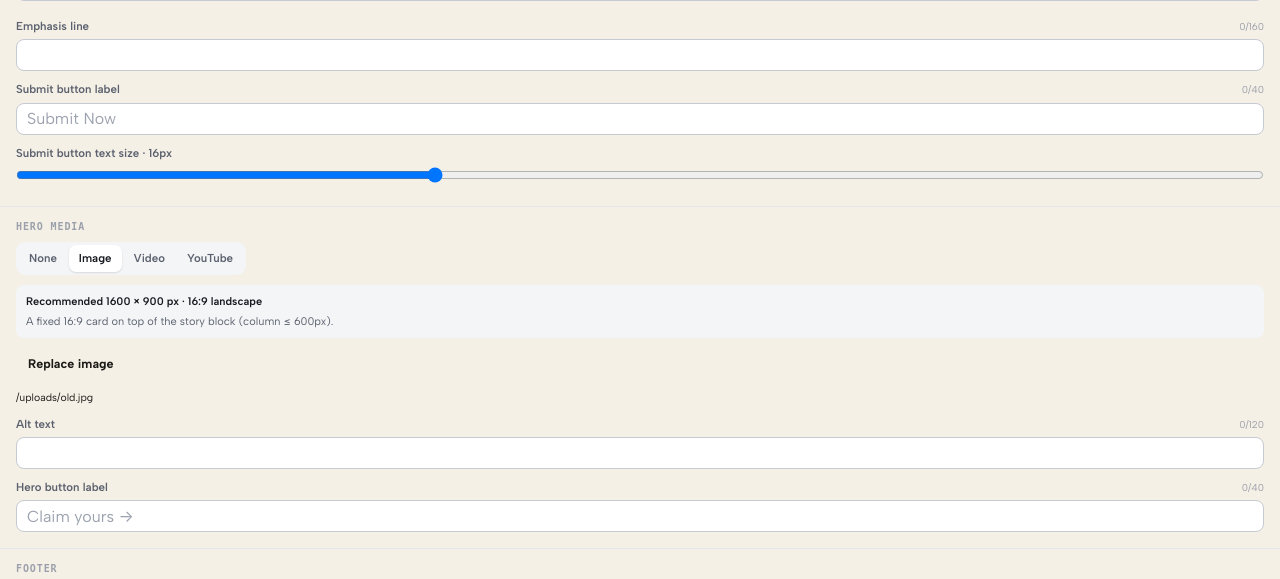
Test case: PagePanel — doc round-trips › detects a recognizable YouTube URL and flags an unrecognizable one
(page scrolled)
Step 1. Click the button "YouTube" → [210, 258], box [177, 245, 243, 272]
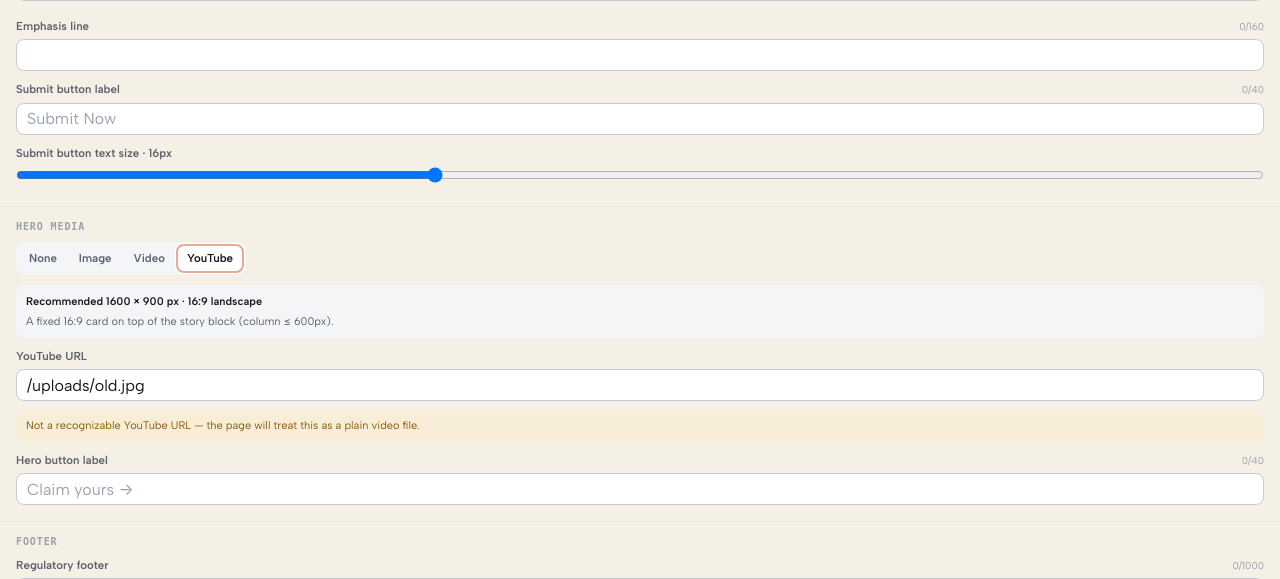
Step 2. Type "https://www.youtube.com/watch?v=dQw4w9WgXcQ" into the field labelled "YouTube URL" → [640, 385], box [16, 369, 1264, 401]
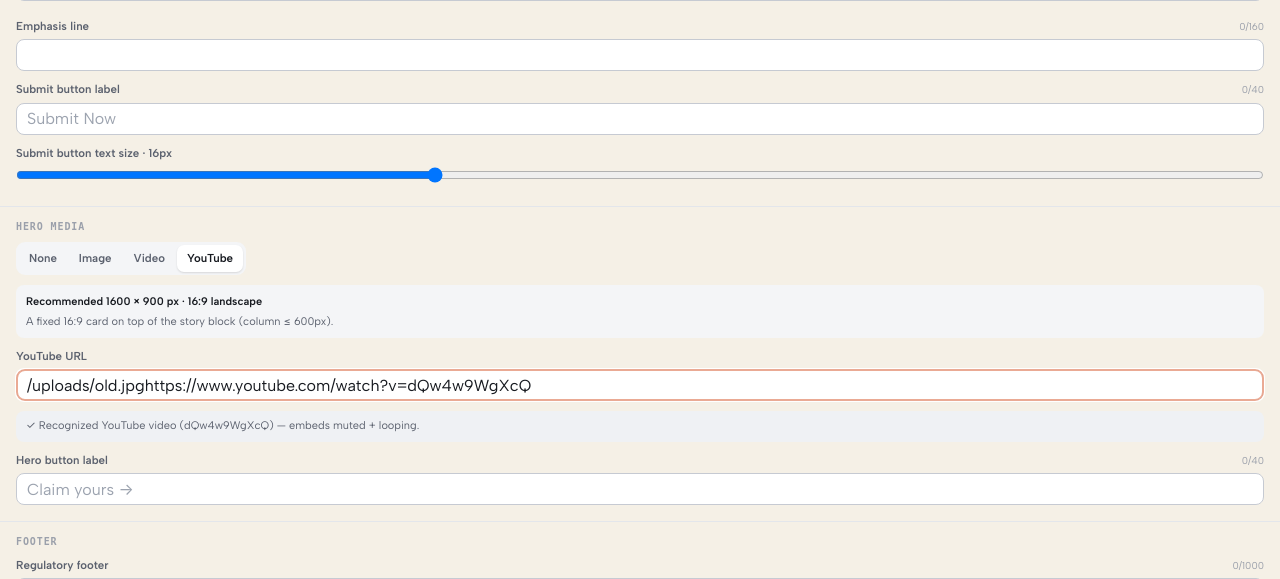
Expected: the text "✓ Recognized YouTube video (dQw4w9WgXcQ)" is shown, [16, 411, 1264, 442]
Step 3. Replace the text in the field labelled "YouTube URL" with "https://example.com/clip" → [640, 385], box [16, 369, 1264, 401]
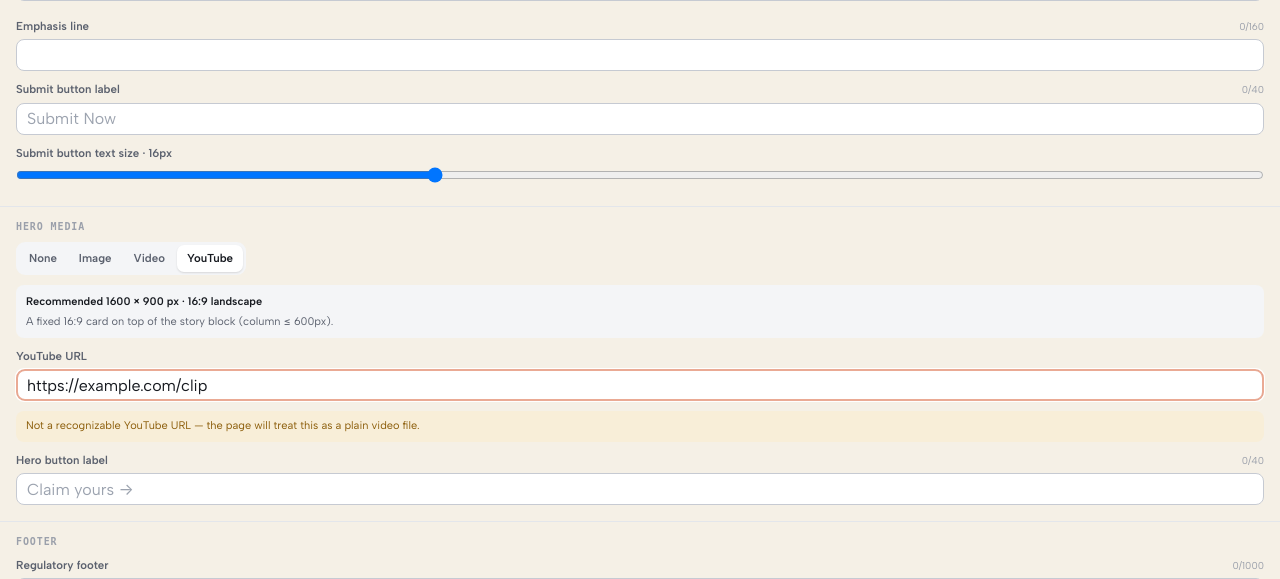
Expected: the text "Not a recognizable YouTube URL" is shown, [26, 419, 420, 432]
